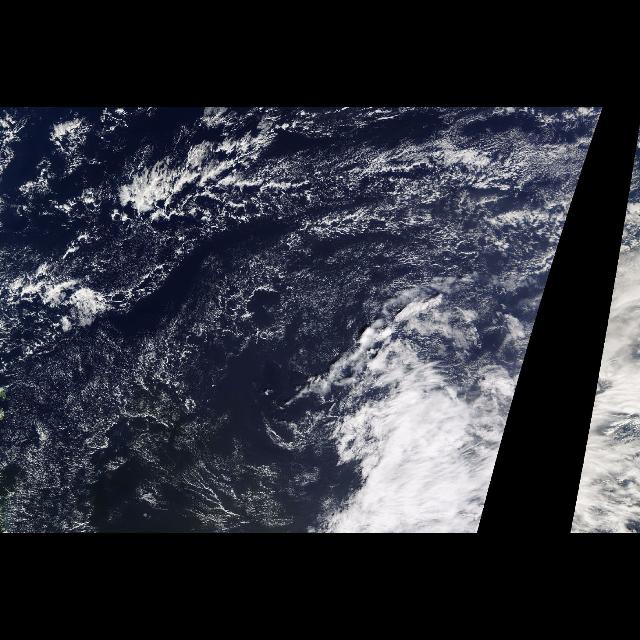Fish: (34, 115, 522, 308)
Sugar: (0, 266, 276, 532), (212, 114, 604, 252)
